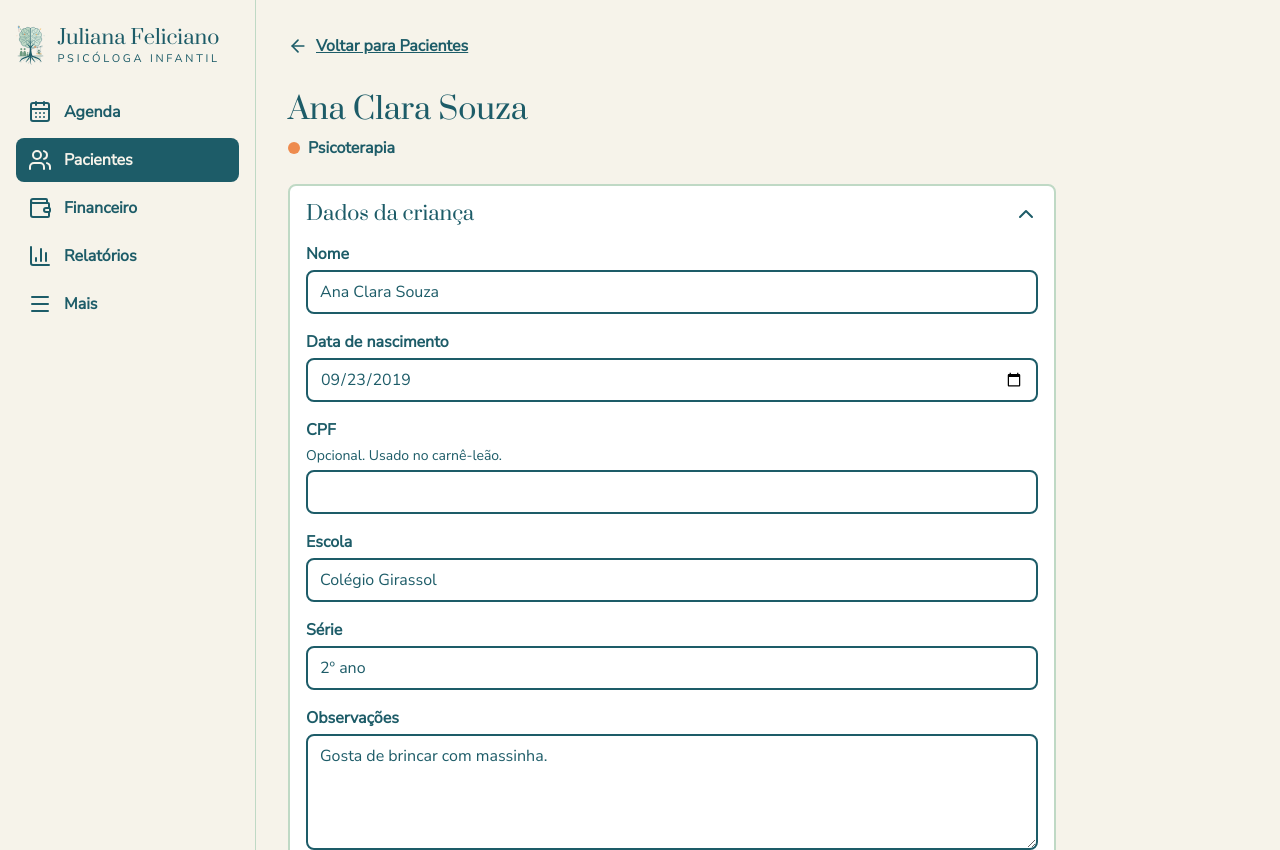
Scenario: FichaPaciente — seções recolhíveis › cada seção abre e fecha pelo título
Expected: the field labelled "Escola" is shown, [306, 558, 1038, 602]
Click the button "Dados da criança": (390, 214) [290, 186, 1054, 242]
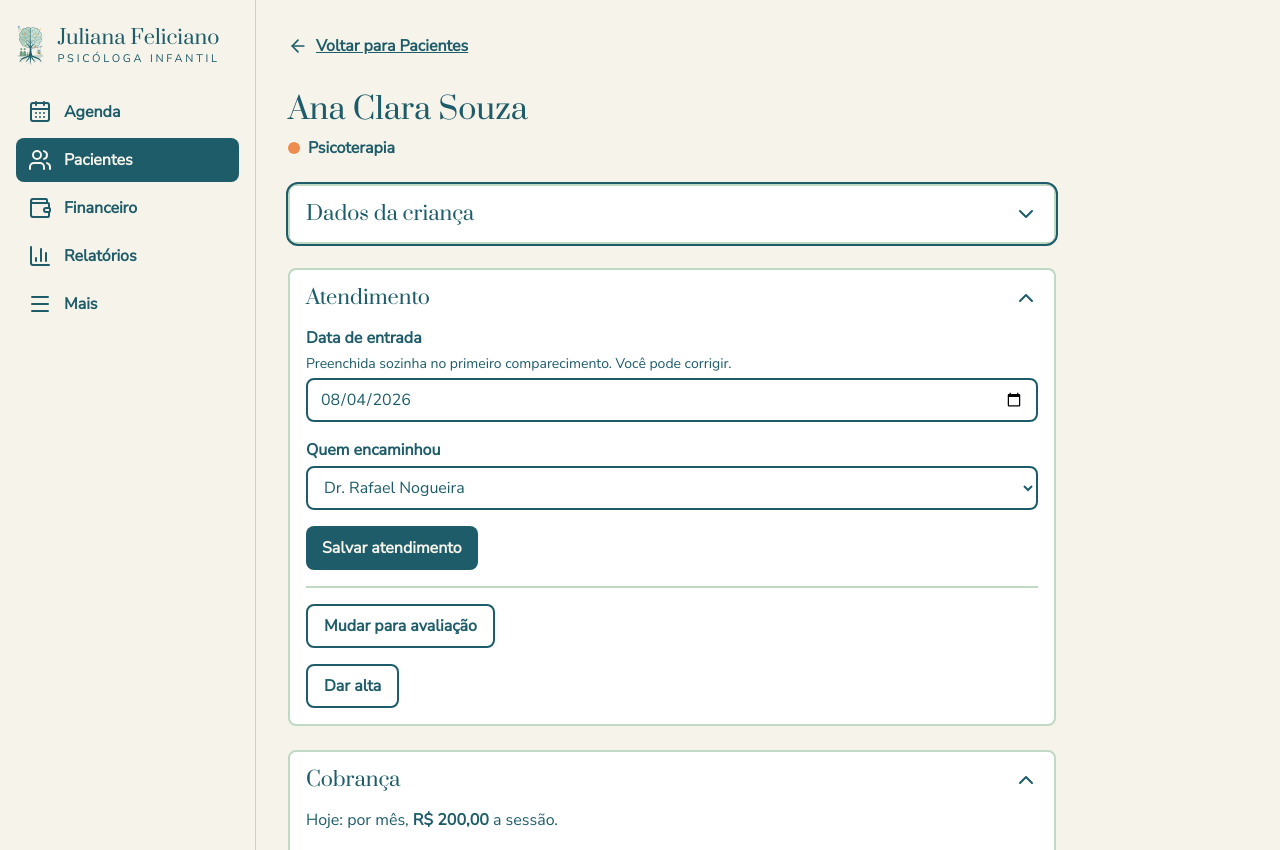
Expected: the button "Dados da criança" is collapsed
Expected: the label labelled "Escola" is gone
Click the button "Dados da criança": (390, 214) [290, 186, 1054, 242]
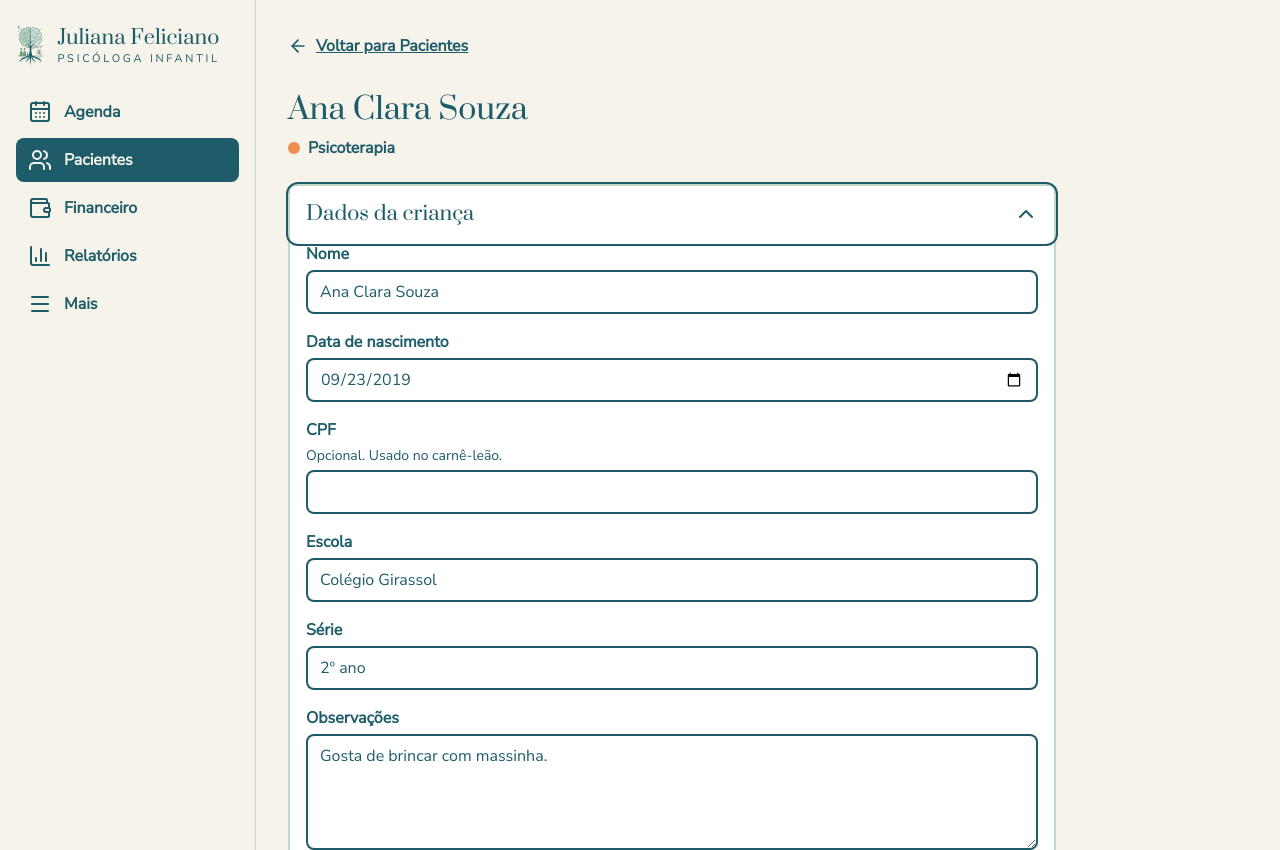
Expected: the button "Dados da criança" is expanded, [290, 186, 1054, 242]
Expected: the field labelled "Escola" is shown, [306, 558, 1038, 602]
